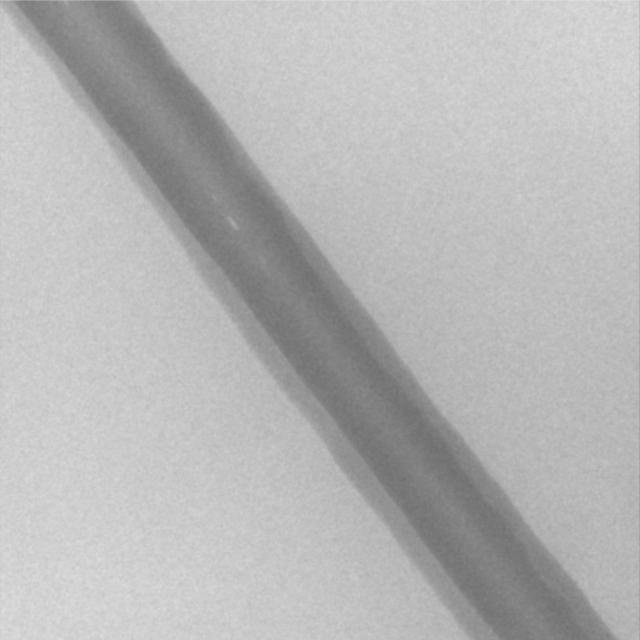air hole: (224, 213, 239, 231)
